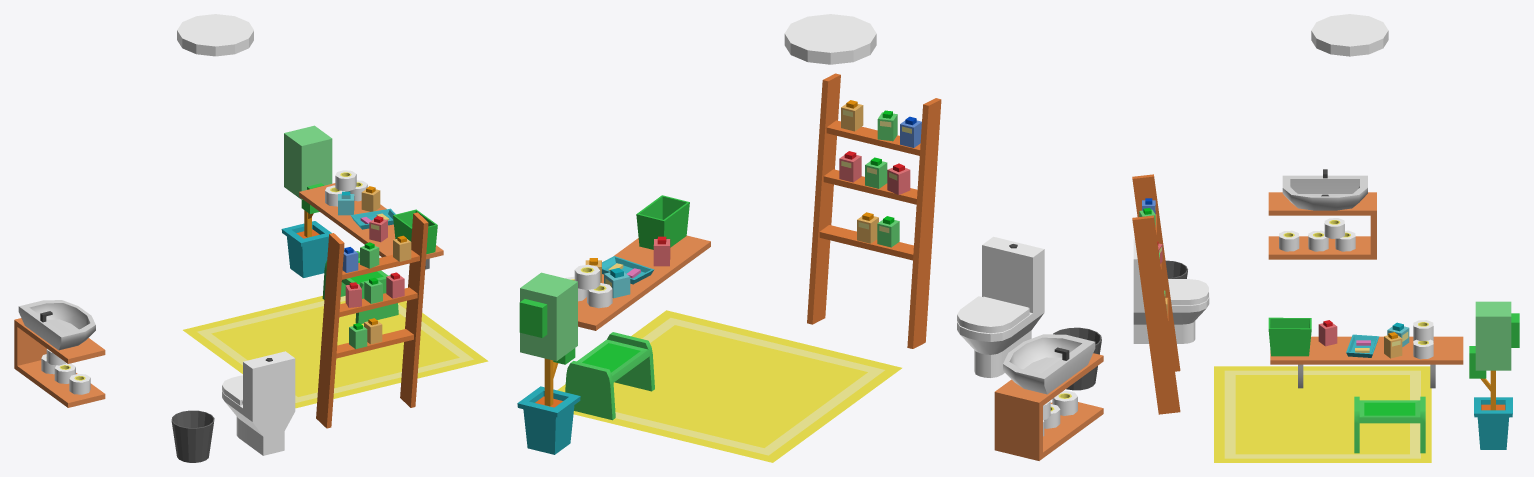
File: BanosObjetos03.fbx
The picture shows the model from 3 angles, left to right: view 1: azimuth 30°, elevation 25°; view 2: azimuth 150°, elevation 25°; view 3: azimuth 270°, elevation 25°; orthographic projection. The views are drawn at different scales.
Visible parts, largest first — view 1: BanosObjetos03; view 2: BanosObjetos03; view 3: BanosObjetos03.
Boxes of the visible parts, <box> form: BanosObjetos03: <box>14,14,488,462</box>; BanosObjetos03: <box>517,14,1103,462</box>; BanosObjetos03: <box>1132,14,1519,462</box>.
Bounding box in the file's own units: 421 × 341 × 358.
